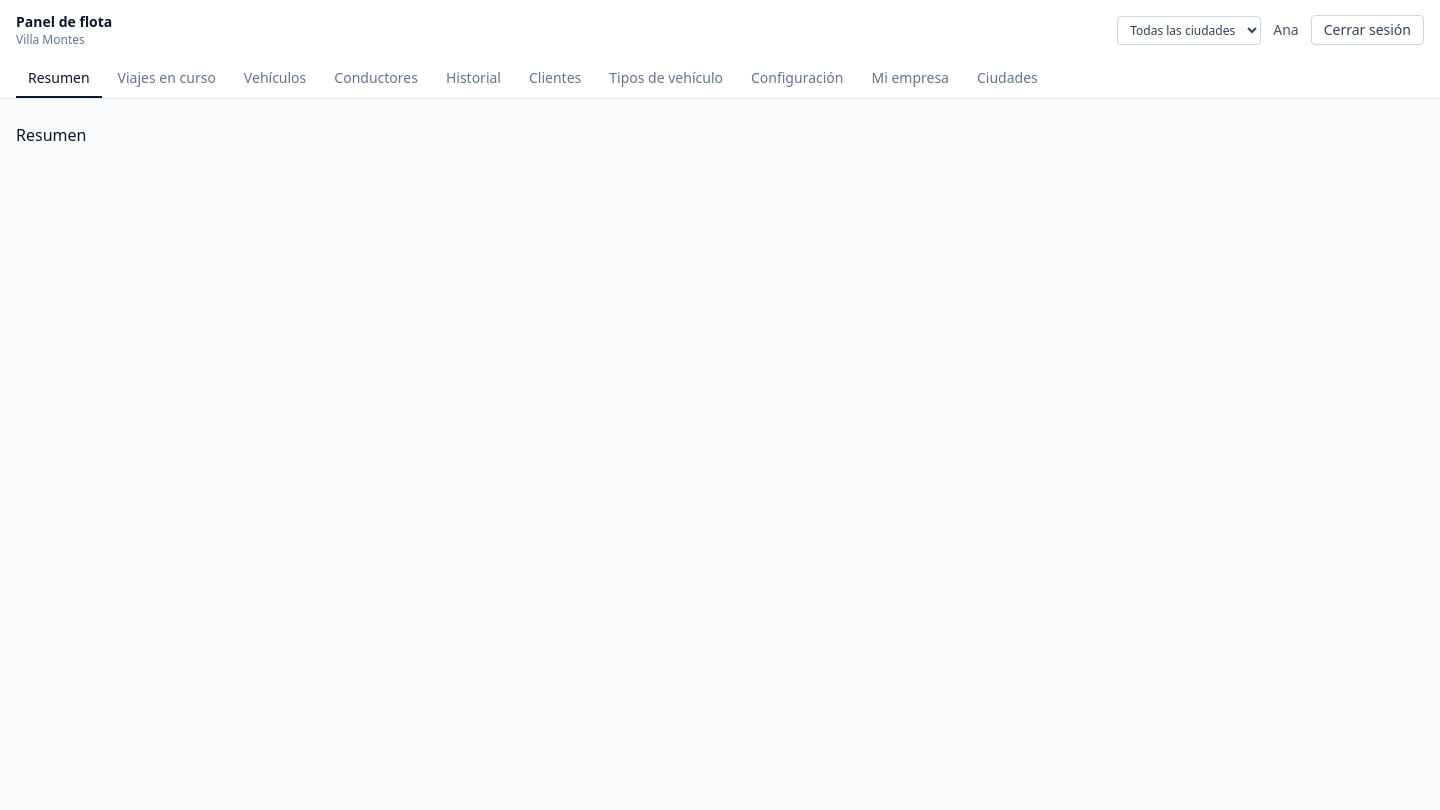
it: cierre de sesión › cerrar sesión devuelve a login sin aviso de expiración
Expected: the heading "Resumen" is shown, [16,124,86,146]
Click the button "Cerrar sesión" at (1367, 30), box [1311,15,1424,45]
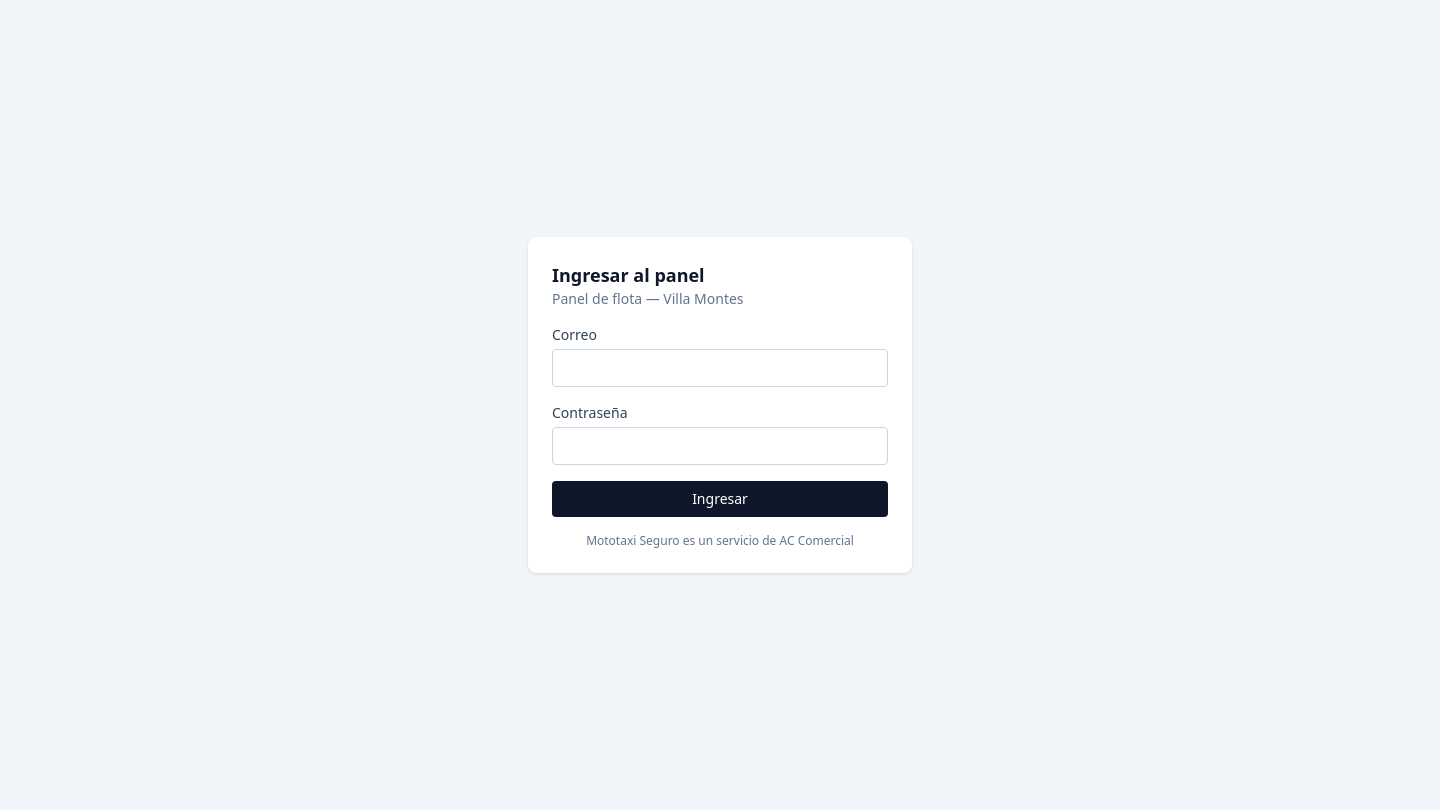
Expected: the heading "Ingresar al panel" is shown, [552,263,705,287]
